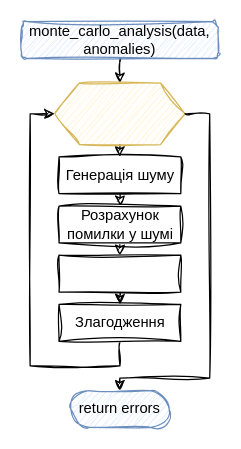
Image size: 241x449. Some labels were removed from this diagram. The centre of each missing label's shape, as x and y in pixels:
"_ in range (n_iterations)" goes at [119,113].
"Пошук аномалій" goes at [119,273].
